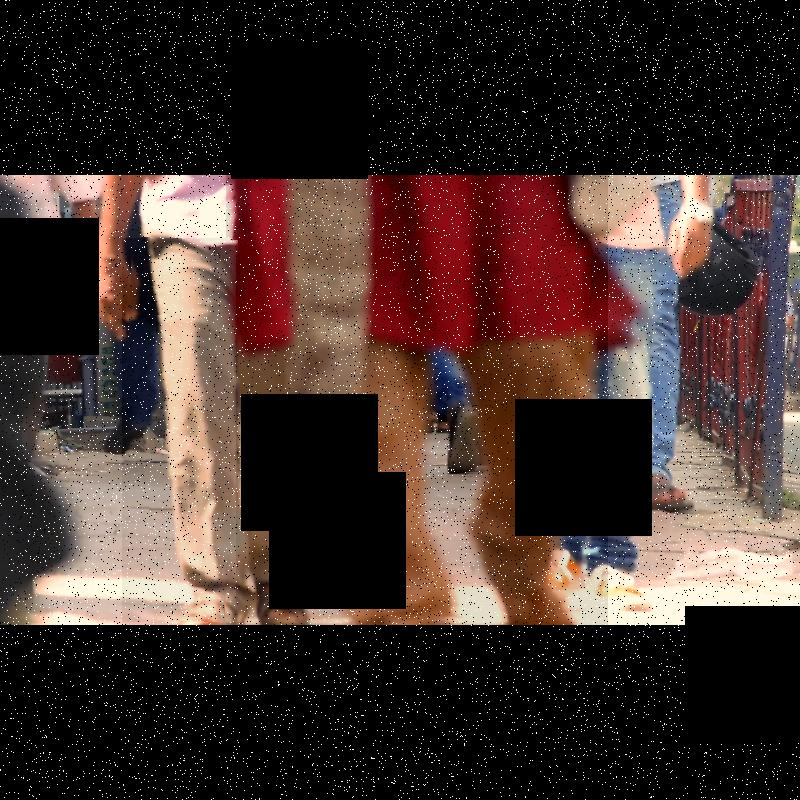Churidaar: (226, 175, 608, 625)
Pant: (122, 238, 236, 622)
